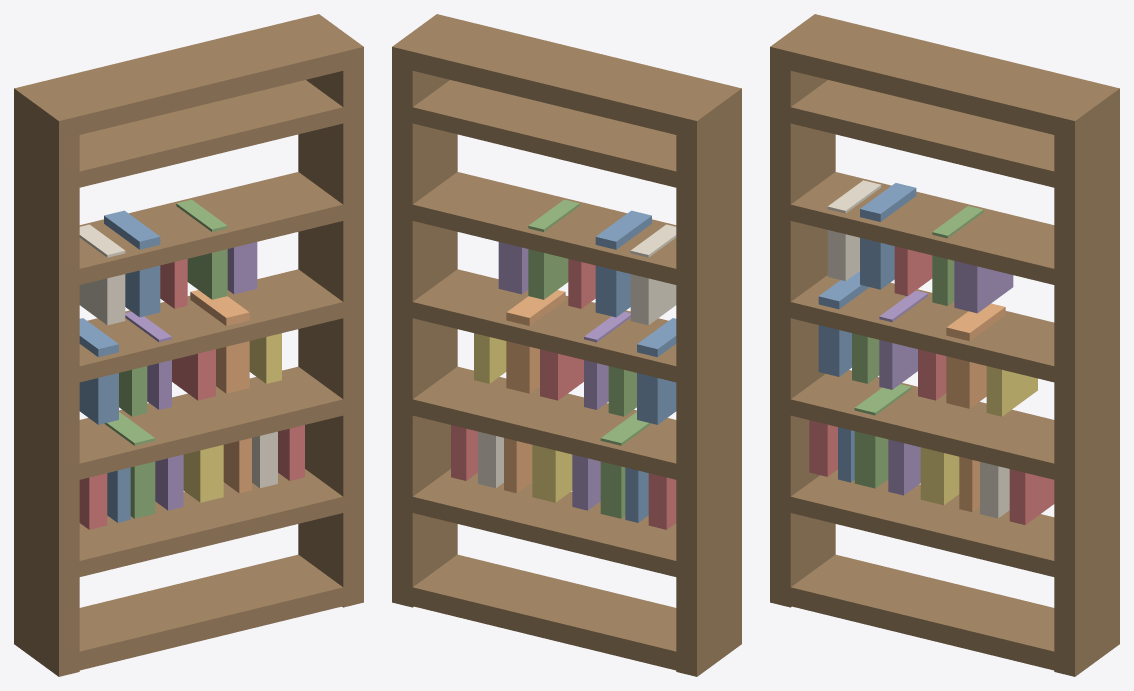
File: bookshelf.glb
3 renders of one model, left to right at view 1: azimuth 30°, elevation 25°; view 2: azimuth 150°, elevation 25°; view 3: azimuth 330°, elevation 25°, orthographic.
Visible parts, largest first — view 1: Bookshelf; view 2: Bookshelf; view 3: Bookshelf.
Boxes of the visible parts, bbox=[...] form: Bookshelf: bbox=[14, 14, 363, 676]; Bookshelf: bbox=[392, 14, 741, 676]; Bookshelf: bbox=[770, 14, 1119, 676].
Size of the model in its own units: 1.18 by 2.06 by 0.3.
